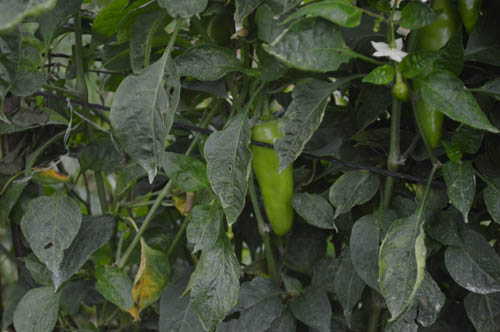ChiliPepper: (412, 4, 460, 142), (251, 122, 298, 234)
